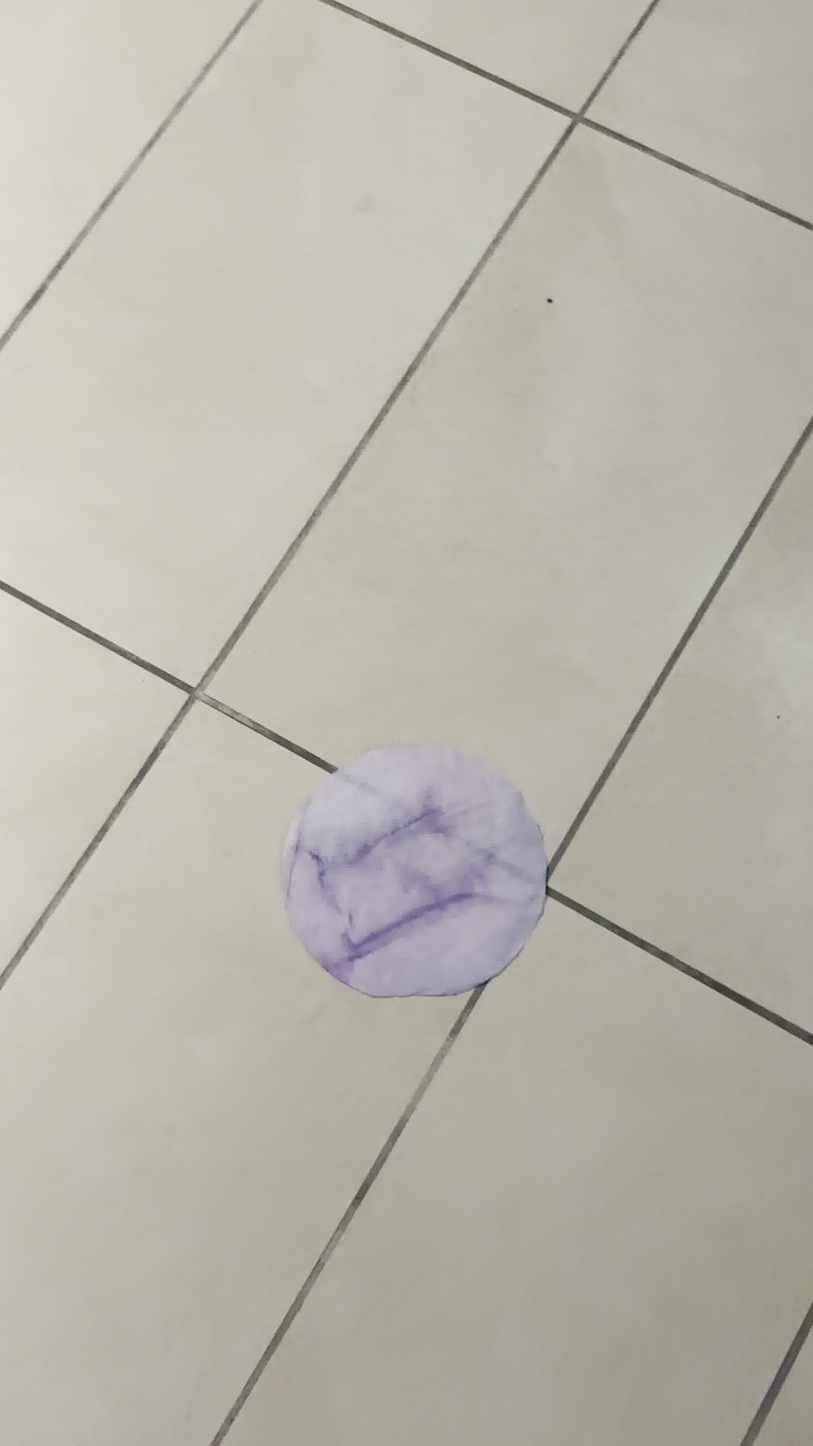Target: (277, 747, 548, 997)
